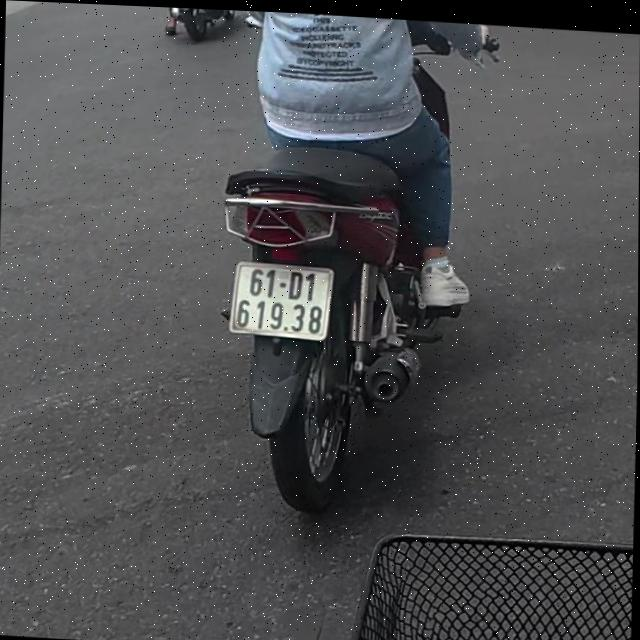motorcycle: (197, 137, 446, 533)
plate: (224, 251, 337, 348)
